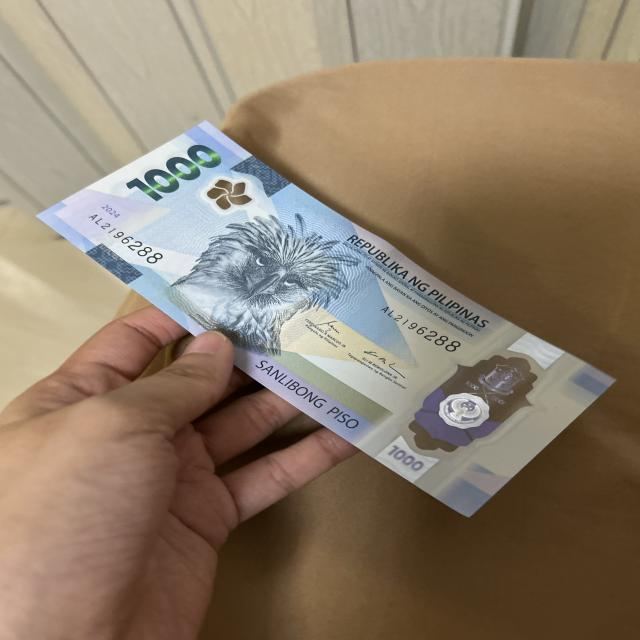clear_window: (407, 347, 532, 458)
eagle: (198, 222, 336, 342)
sampaguita: (198, 176, 253, 209)
